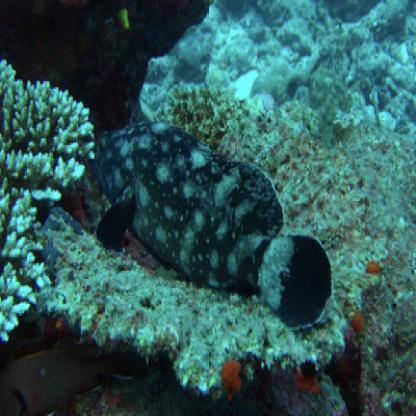Bio: (83, 116, 334, 334)
